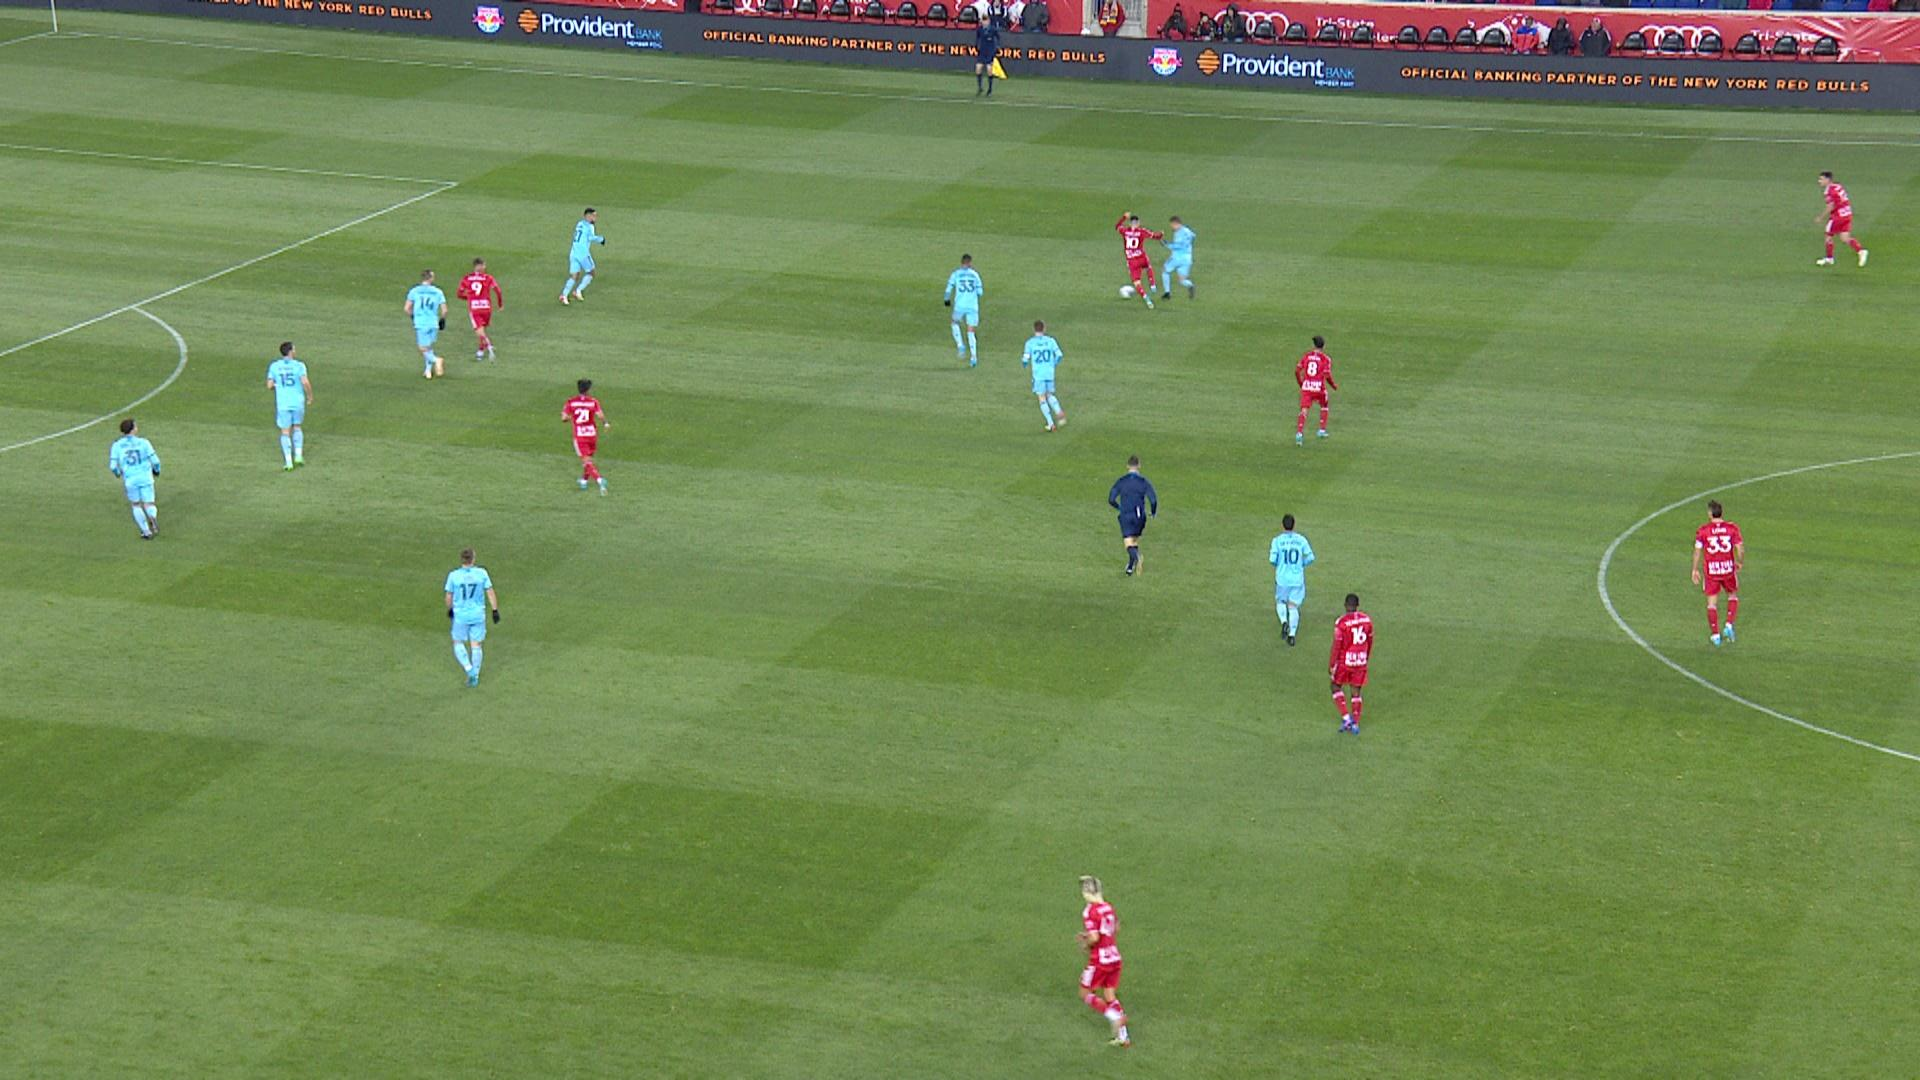football: (1118, 285, 1134, 299)
